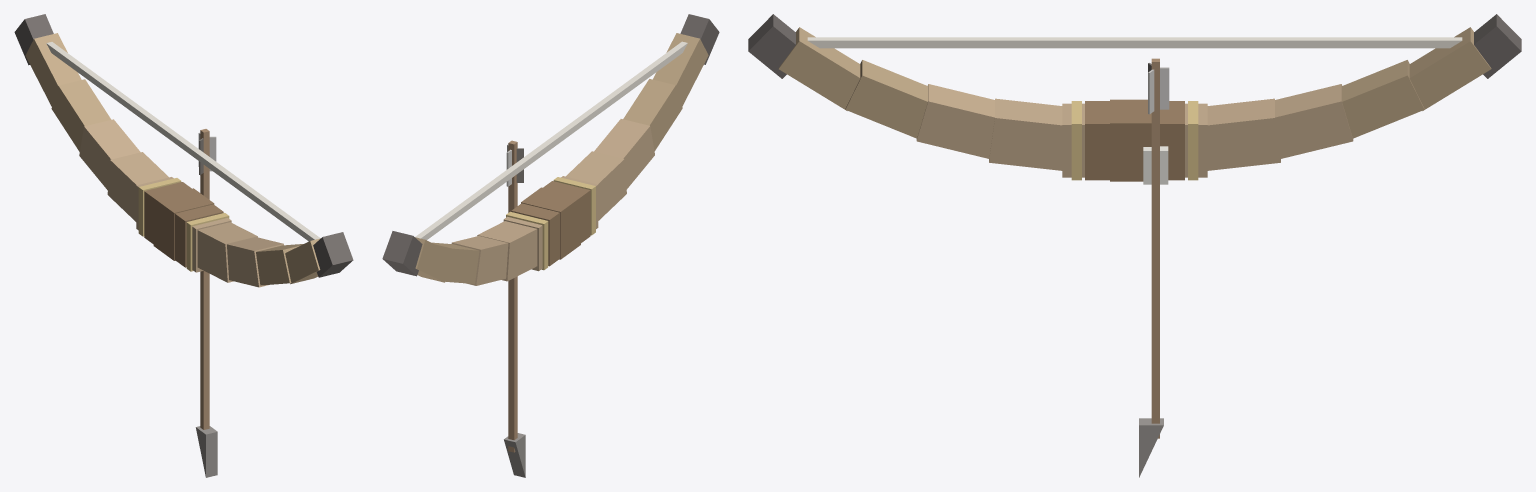
The model's file is art_hunters_shortbow.fbx.
3 renders of one model, left to right at view 1: azimuth 30°, elevation 25°; view 2: azimuth 150°, elevation 25°; view 3: azimuth 270°, elevation 25°, orthographic. The views are drawn at different scales.
Parts seen in each view (by area): view 1: BowString, LimbU_3, LimbU_2, LimbU_1, ArrowShaft, LimbL_1, LimbU_4, LimbL_2, TipNock_Lower, LimbL_3, LimbL_4, GripWrap_4 (+8 smaller); view 2: BowString, LimbL_3, LimbL_2, LimbL_1, ArrowShaft, LimbU_1, LimbL_4, LimbU_2, TipNock_Upper, LimbU_3, LimbU_4, GripWrap_1 (+8 smaller); view 3: BowString, LimbL_1, LimbU_1, LimbL_2, LimbU_2, LimbL_3, LimbU_3, LimbL_4, LimbU_4, ArrowShaft, GripWrap_3, GripWrap_4 (+8 smaller).
Boxes of the visible parts, bbox=[...] form: BowString: bbox=[46, 42, 320, 241]; LimbU_3: bbox=[51, 79, 111, 151]; LimbU_2: bbox=[79, 119, 140, 190]; LimbU_1: bbox=[107, 152, 168, 221]; ArrowShaft: bbox=[200, 129, 209, 429]; LimbL_1: bbox=[197, 222, 257, 282]; LimbU_4: bbox=[25, 33, 81, 106]; LimbL_2: bbox=[227, 237, 283, 287]; TipNock_Lower: bbox=[313, 232, 353, 277]; LimbL_3: bbox=[256, 244, 303, 285]; LimbL_4: bbox=[285, 238, 320, 284]; GripWrap_4: bbox=[175, 204, 223, 267]; BowString: bbox=[415, 41, 687, 240]; LimbL_3: bbox=[623, 79, 682, 150]; LimbL_2: bbox=[594, 119, 654, 189]; LimbL_1: bbox=[566, 151, 626, 220]; ArrowShaft: bbox=[508, 140, 517, 452]; LimbU_1: bbox=[477, 221, 537, 281]; LimbL_4: bbox=[653, 33, 708, 106]; LimbU_2: bbox=[451, 236, 508, 285]; TipNock_Upper: bbox=[382, 231, 422, 276]; LimbU_3: bbox=[432, 242, 479, 283]; LimbU_4: bbox=[415, 237, 450, 282]; GripWrap_1: bbox=[511, 203, 559, 266]; BowString: bbox=[807, 37, 1462, 48]; LimbL_1: bbox=[989, 98, 1062, 170]; LimbU_1: bbox=[1207, 98, 1280, 170]; LimbL_2: bbox=[916, 84, 994, 158]; LimbU_2: bbox=[1275, 84, 1353, 158]; LimbL_3: bbox=[845, 60, 927, 138]; LimbU_3: bbox=[1342, 60, 1424, 138]; LimbL_4: bbox=[778, 27, 860, 110]; LimbU_4: bbox=[1409, 27, 1491, 110]; ArrowShaft: bbox=[1151, 58, 1159, 438]; GripWrap_3: bbox=[1110, 99, 1134, 181]; GripWrap_4: bbox=[1085, 101, 1109, 180].
Bounding box in the file's own units: 0.3935 × 2.32 × 3.72.
